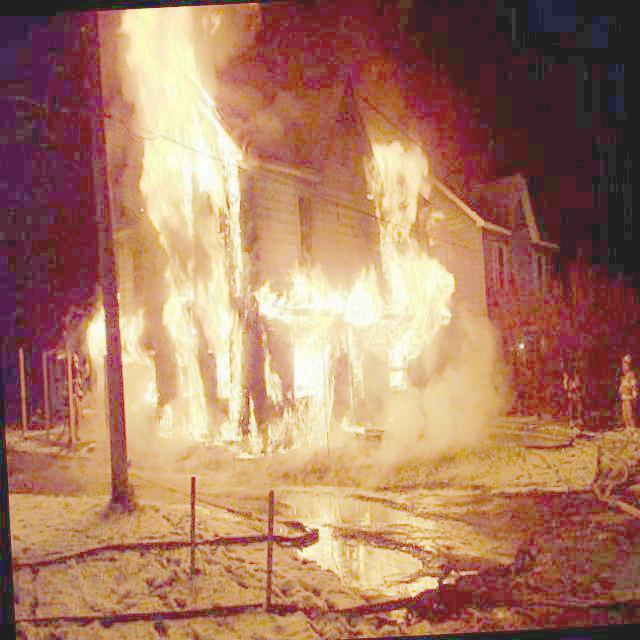api: (118, 12, 236, 292), (94, 306, 248, 450), (376, 144, 464, 393), (262, 278, 363, 427)
asap: (382, 396, 513, 479)
